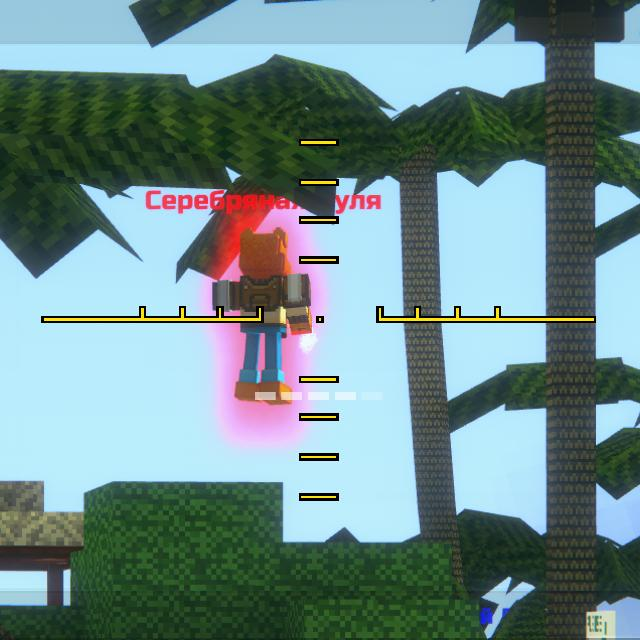Enemy: (212, 227, 312, 406)
